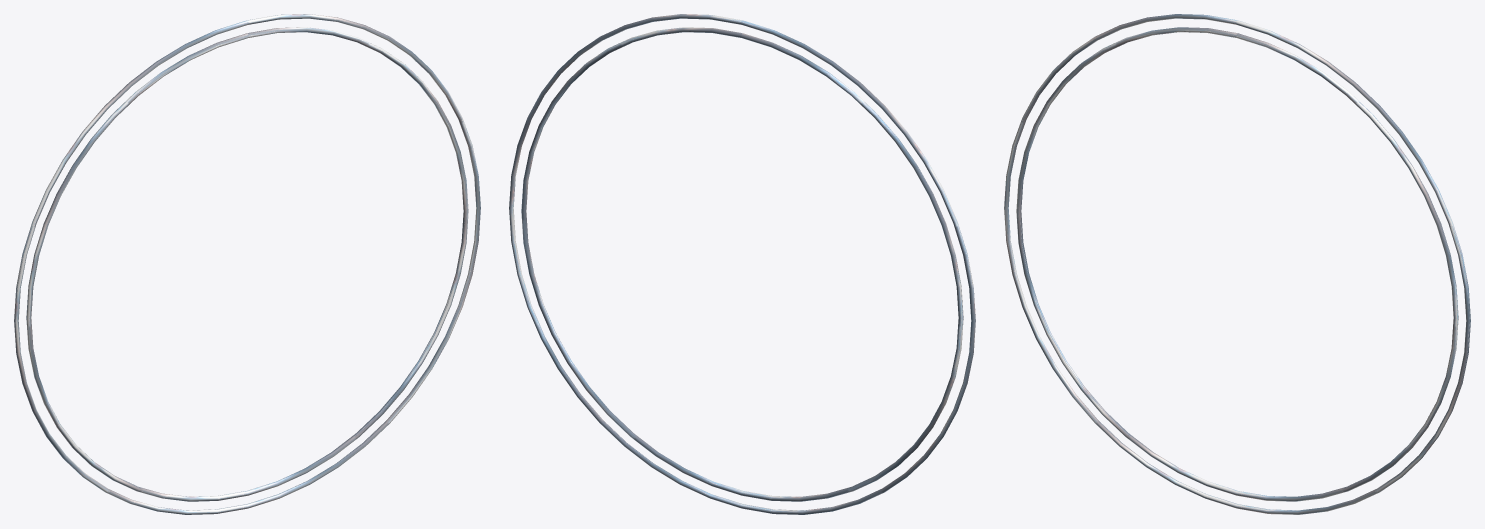
3 renders of one model, left to right at view 1: azimuth 30°, elevation 25°; view 2: azimuth 150°, elevation 25°; view 3: azimuth 330°, elevation 25°, orthographic.
Parts seen in each view (by area): view 1: BézierCircle.002; view 2: BézierCircle.002; view 3: BézierCircle.002.
Part boxes in pixels (x1,y1,x2,y2): BézierCircle.002: (14, 14, 480, 514); BézierCircle.002: (509, 14, 975, 514); BézierCircle.002: (1004, 14, 1470, 514).
Bounding box in the file's own units: 10.66 × 10.66 × 0.1.
Materials: 1 (1 with a texture image).
